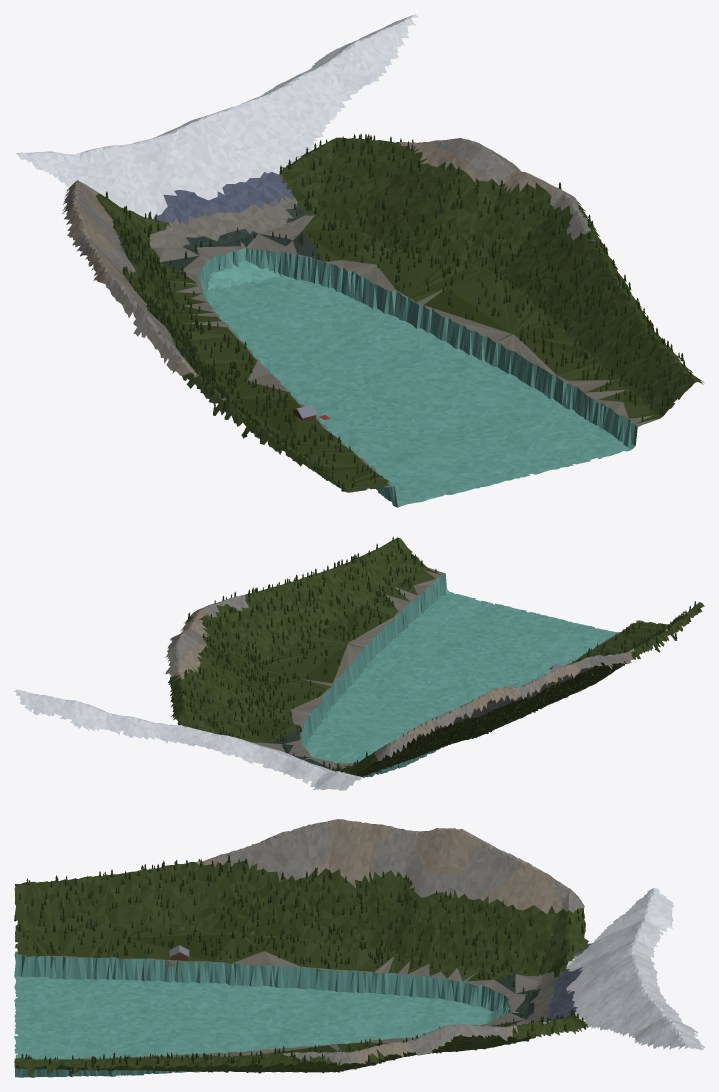
File: LakeLouise.fbx
The picture shows the model from 3 angles, top to bottom: view 1: azimuth 30°, elevation 25°; view 2: azimuth 150°, elevation 25°; view 3: azimuth 270°, elevation 25°; orthographic projection. The views are drawn at different scales.
Parts seen in each view (by area): view 1: Valley, Forest_Right, Forest_Left, Forest_Far; view 2: Valley, Forest_Right, Forest_Left, Forest_Far; view 3: Valley, Forest_Left, Forest_Right, Forest_Far.
Part boxes in pixels (x1,y1,x2,y2): Valley: (16, 14, 703, 507); Forest_Right: (236, 136, 691, 421); Forest_Left: (113, 216, 376, 491); Forest_Far: (105, 133, 375, 237); Valley: (14, 538, 704, 790); Forest_Right: (171, 536, 436, 759); Forest_Left: (323, 601, 699, 776); Forest_Far: (172, 689, 374, 773); Valley: (14, 819, 704, 1077); Forest_Left: (14, 855, 541, 1000); Forest_Right: (17, 1006, 540, 1073); Forest_Far: (540, 908, 586, 1033).
Size of the model in its own units: 759 by 190 by 993.
